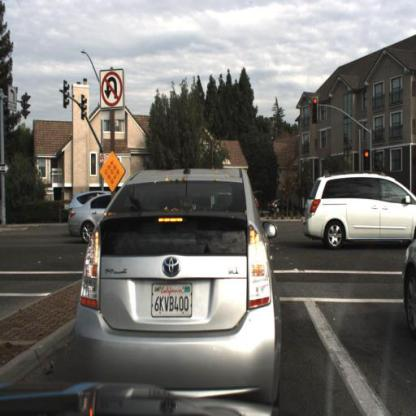car: (58, 156, 283, 409), (303, 176, 416, 250), (67, 193, 120, 246), (67, 190, 118, 245), (400, 226, 416, 343), (66, 186, 94, 221)
trafficLight-Red: (361, 145, 373, 176), (311, 93, 321, 126)
